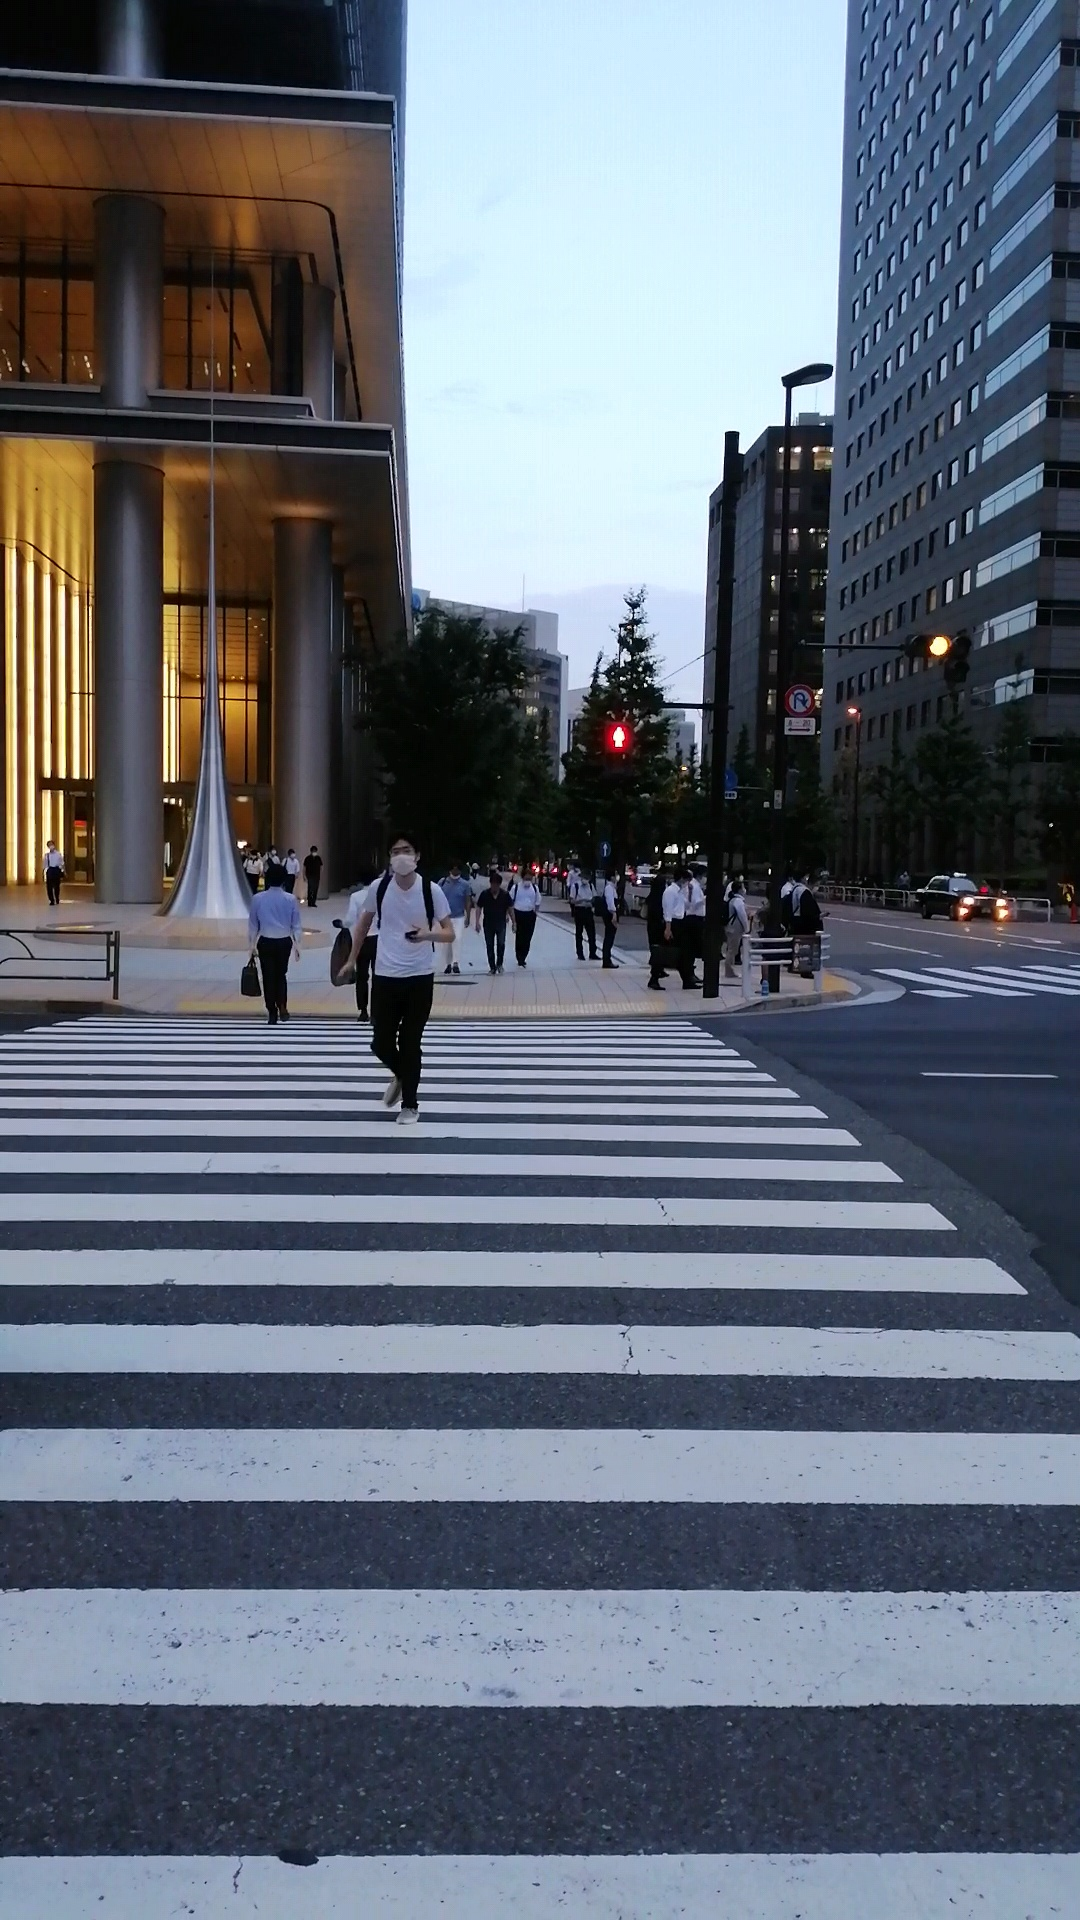red: (603, 719, 633, 781)
